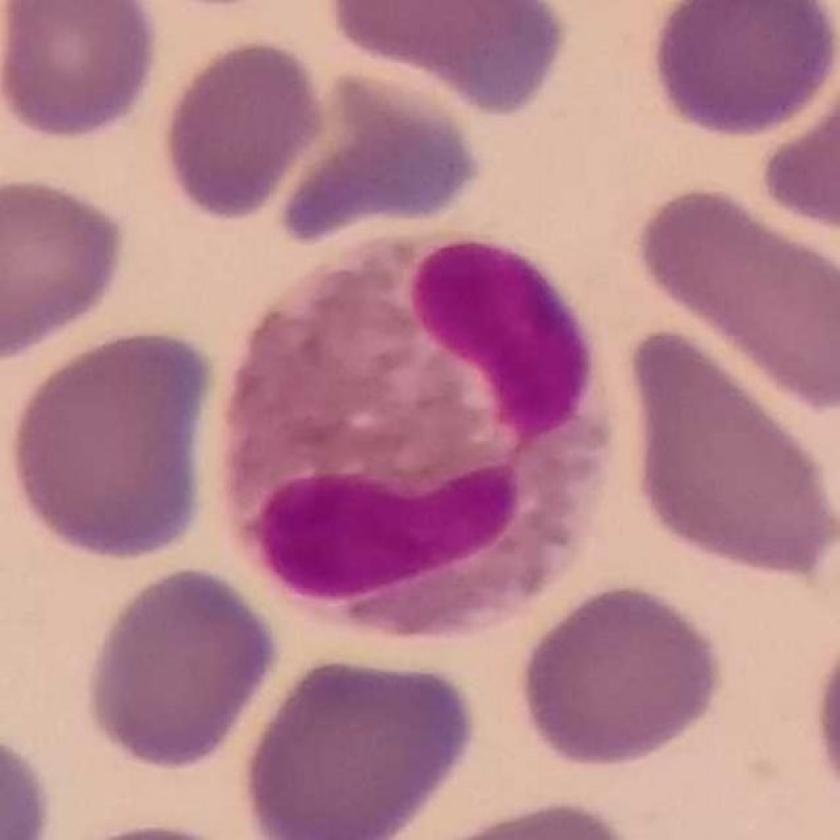eosinophil: (224, 229, 617, 647)
